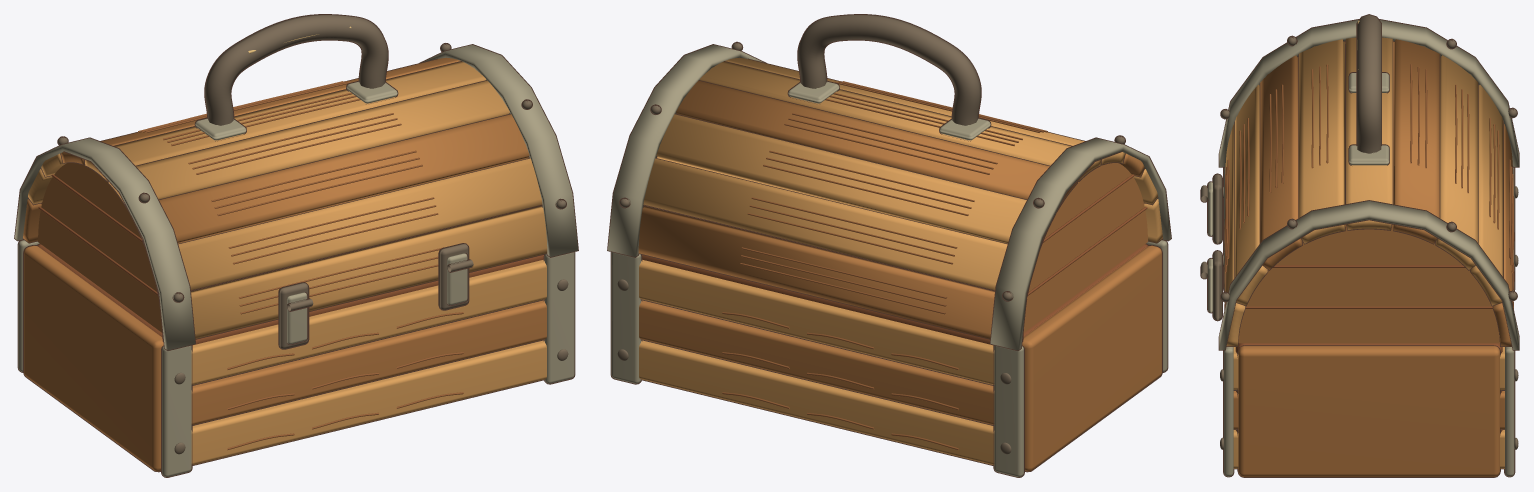
File: rebuilt_10001.glb
3 renders of one model, left to right at view 1: azimuth 30°, elevation 25°; view 2: azimuth 150°, elevation 25°; view 3: azimuth 270°, elevation 25°, orthographic. The views are drawn at different scales.
Parts seen in each view (by area): view 1: Surface_woodlight, Surface_wood, Surface_metal, Surface_edge, Surface_ink, Surface_grain, Surface_wooddark; view 2: Surface_wood, Surface_woodlight, Surface_metal, Surface_grain, Surface_ink, Surface_edge, Surface_wooddark; view 3: Surface_wood, Surface_woodlight, Surface_metal, Surface_ink, Surface_edge, Surface_grain, Surface_wooddark.
Part boxes in pixels (x1=…): Surface_woodlight: x1=28, y1=61, x2=547, y2=464; Surface_wood: x1=23, y1=57, x2=546, y2=471; Surface_metal: x1=14, y1=44, x2=577, y2=476; Surface_edge: x1=58, y1=15, x2=568, y2=454; Surface_ink: x1=14, y1=14, x2=578, y2=477; Surface_grain: x1=138, y1=81, x2=463, y2=450; Surface_wooddark: x1=37, y1=174, x2=543, y2=344; Surface_wood: x1=638, y1=80, x2=1161, y2=471; Surface_woodlight: x1=639, y1=57, x2=1162, y2=464; Surface_metal: x1=607, y1=44, x2=1171, y2=476; Surface_grain: x1=722, y1=81, x2=1047, y2=450; Surface_ink: x1=607, y1=14, x2=1171, y2=477; Surface_edge: x1=617, y1=15, x2=1125, y2=454; Surface_wooddark: x1=642, y1=174, x2=1148, y2=345; Surface_wood: x1=1233, y1=39, x2=1512, y2=476; Surface_woodlight: x1=1225, y1=37, x2=1504, y2=468; Surface_metal: x1=1208, y1=19, x2=1519, y2=476; Surface_ink: x1=1200, y1=14, x2=1519, y2=477; Surface_edge: x1=1201, y1=15, x2=1518, y2=449; Surface_grain: x1=1224, y1=64, x2=1514, y2=309; Surface_wooddark: x1=1235, y1=265, x2=1502, y2=431.
Bounding box in the file's own units: 0.833 × 0.6808 × 0.5635.
